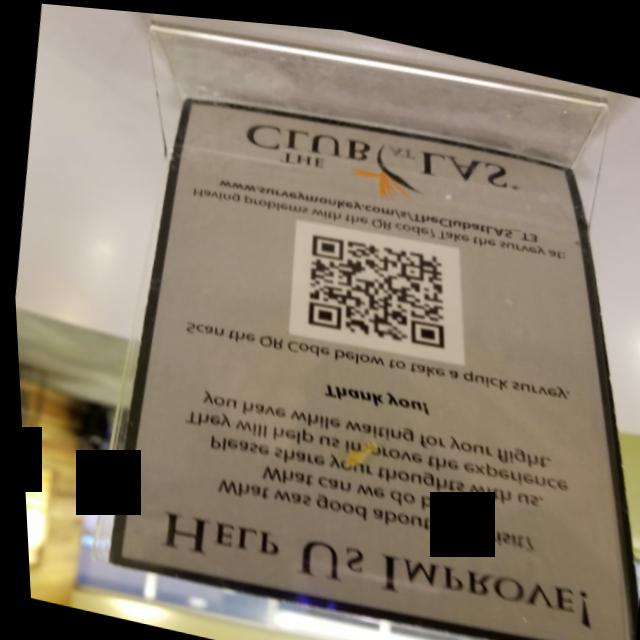QR_CODE: (283, 212, 473, 366)
